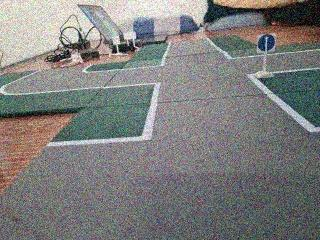straight: (256, 33, 279, 57)
